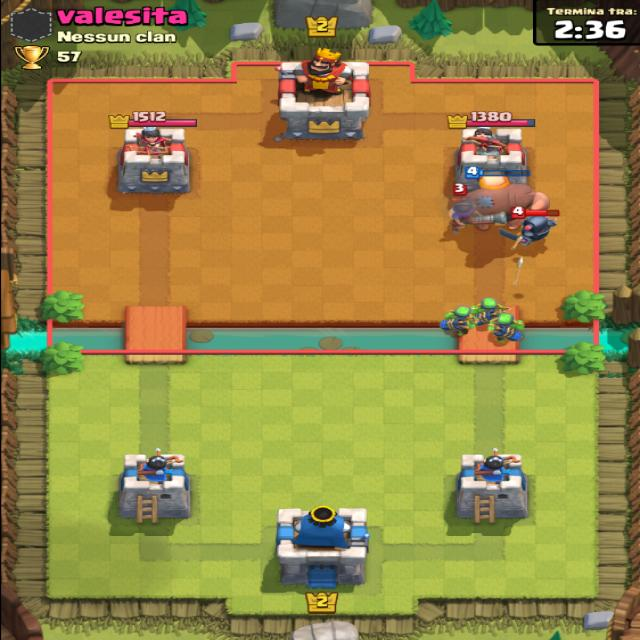Enemy-MiniPEKKA: (507, 210, 558, 247)
Player-Giant: (456, 168, 547, 235)
Player-SpearGoblin: (491, 314, 530, 343), (446, 304, 473, 341), (468, 296, 494, 326)
